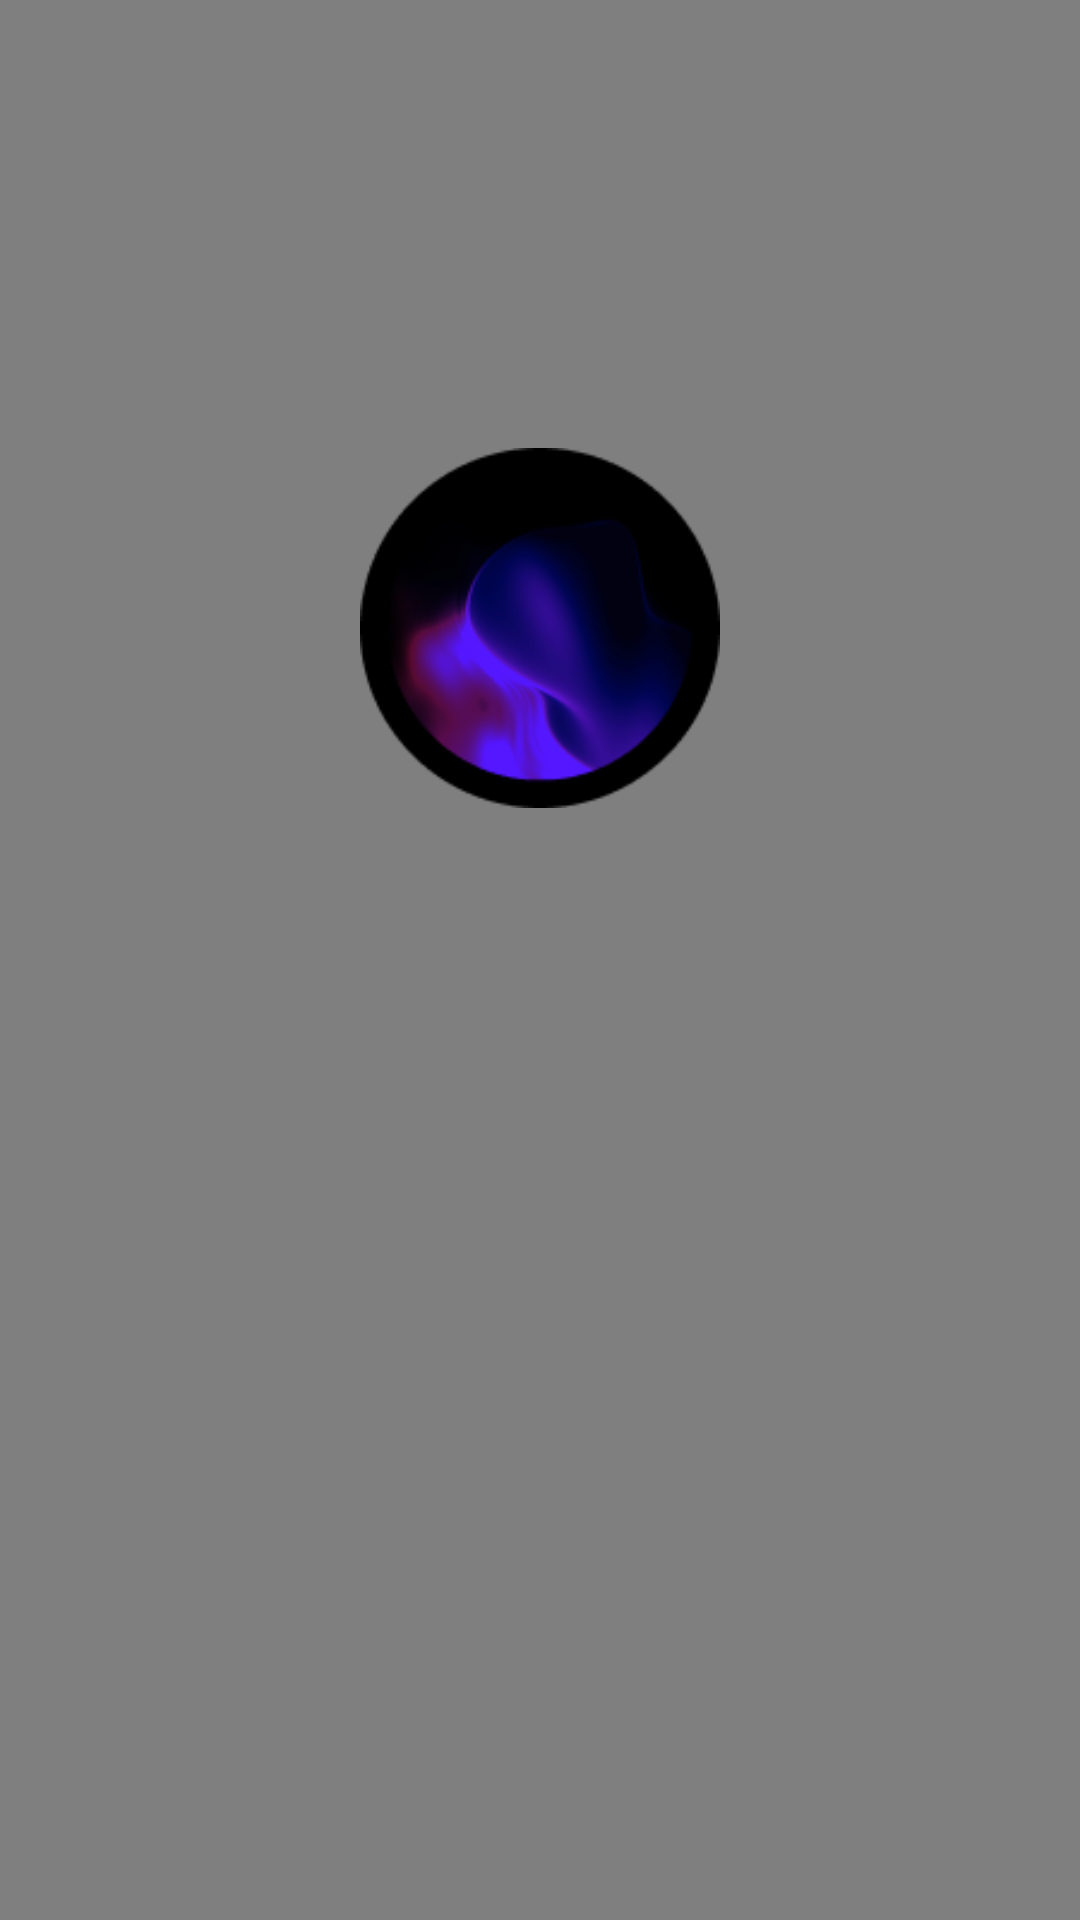

Where icons sit on this 1080px×1920px app screen, as box(x1, y1, x2, y2):
AI icon: box(360, 448, 720, 808)
